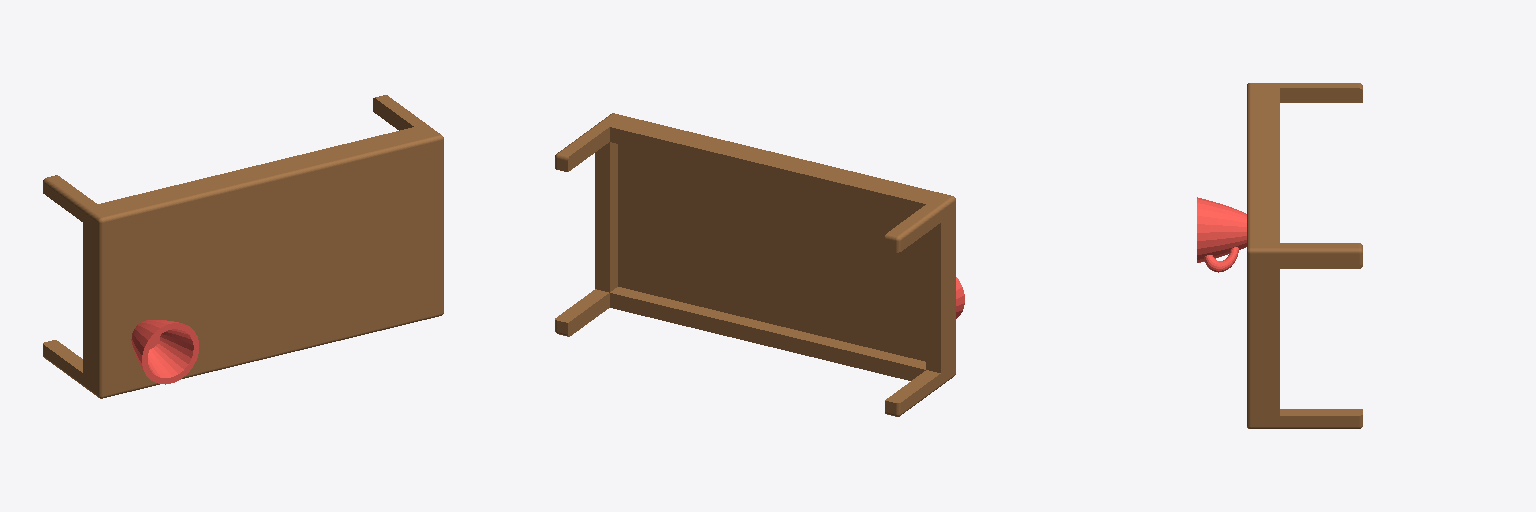
Rendered from tinker.obj.
3 renders of one model, left to right at view 1: azimuth 30°, elevation 25°; view 2: azimuth 150°, elevation 25°; view 3: azimuth 270°, elevation 25°, orthographic.
Parts seen in each view (by area): view 1: obj_0; view 2: obj_0; view 3: obj_0.
Part boxes in pixels (left/top/right/bottom): obj_0: left=43, top=95, right=443, bottom=398; obj_0: left=555, top=113, right=964, bottom=416; obj_0: left=1197, top=83, right=1362, bottom=428.
Size of the model in its own units: 120 by 60 by 50.